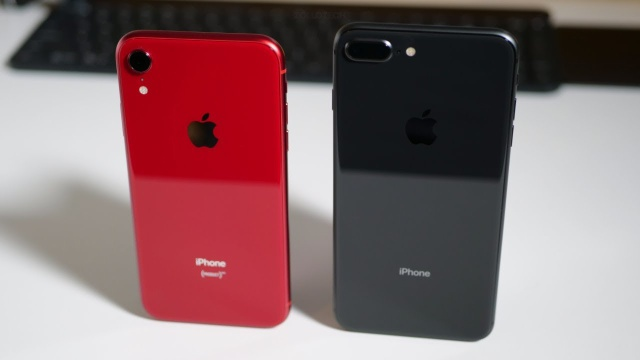apple: (391, 93, 456, 159), (178, 103, 234, 161)
